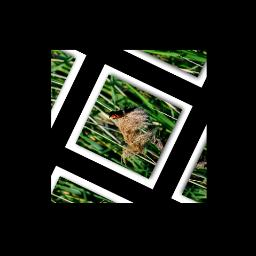Swallow: (106, 94, 140, 129)
